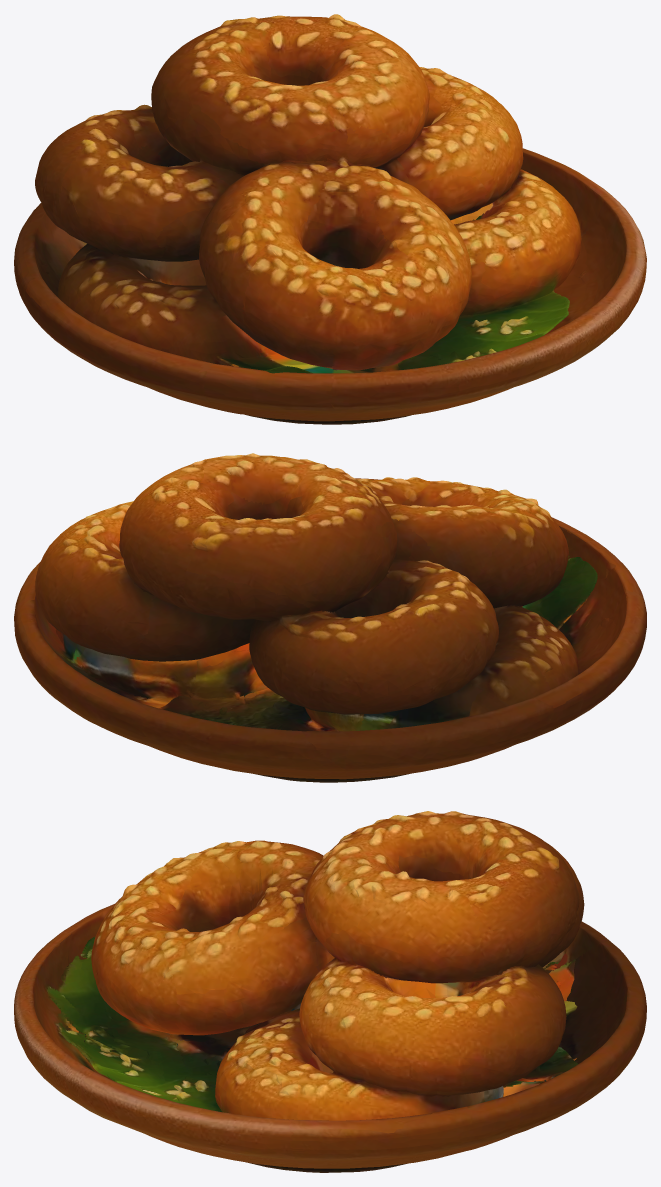
File: kaliadrem.glb
3 views of the same model, one above another, from view 1: azimuth 30°, elevation 25°; view 2: azimuth 150°, elevation 25°; view 3: azimuth 270°, elevation 25° (orthographic).
Parts seen in each view (by area): view 1: Object_4; view 2: Object_4; view 3: Object_4.
Boxes of the visible parts, bbox=[...] form: Object_4: bbox=[14, 14, 646, 424]; Object_4: bbox=[14, 453, 646, 782]; Object_4: bbox=[14, 811, 646, 1172].
Size of the model in its own units: 0.9992 by 0.4687 by 0.9992.
1 material, 1 textured.
